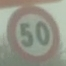limite 50: (5, 5, 60, 61)
